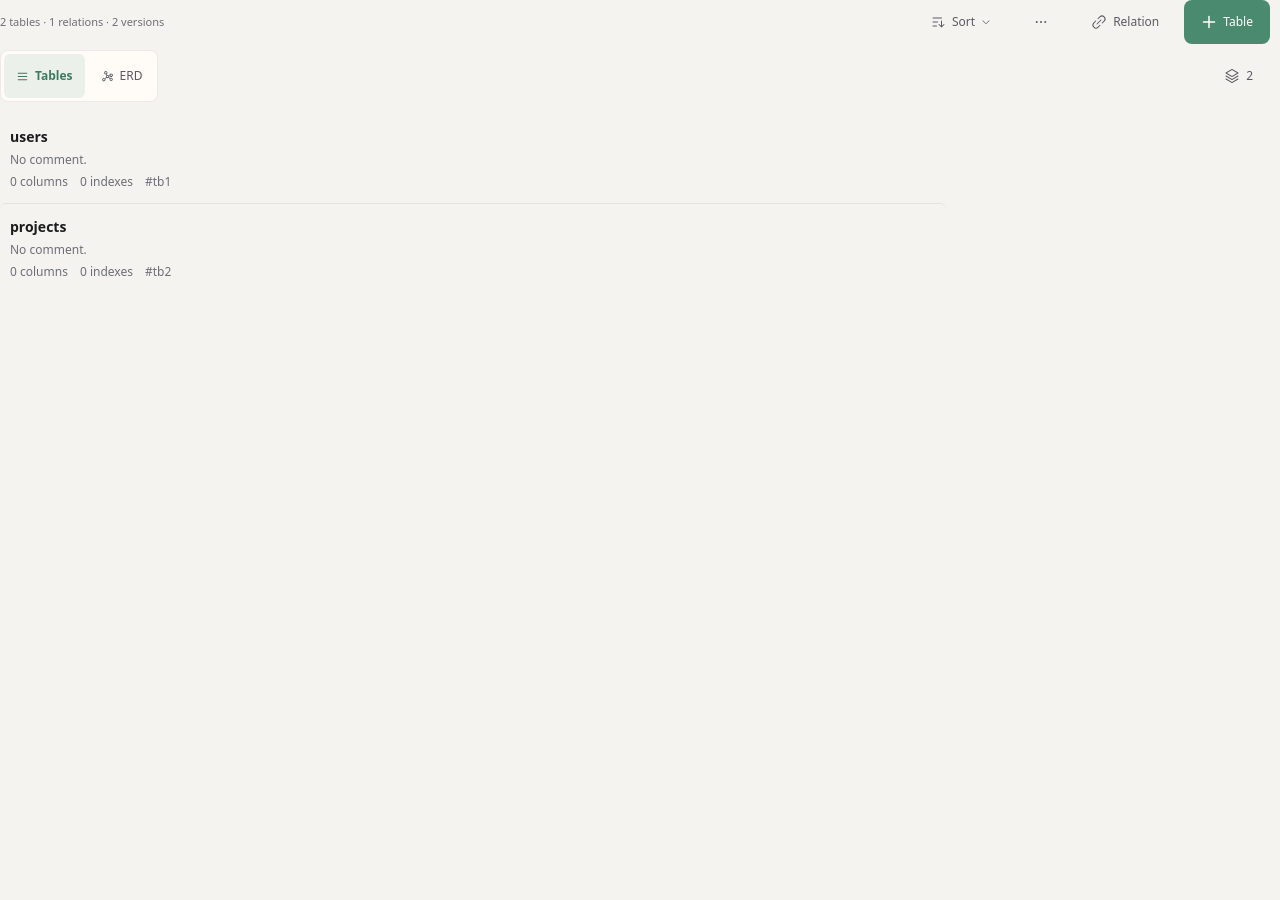
Scenario: SchemaPage mobile header › opens the overflow sheet with export items and import
Click the button named "More actions" at (1041, 22), box [1016, 0, 1066, 44]
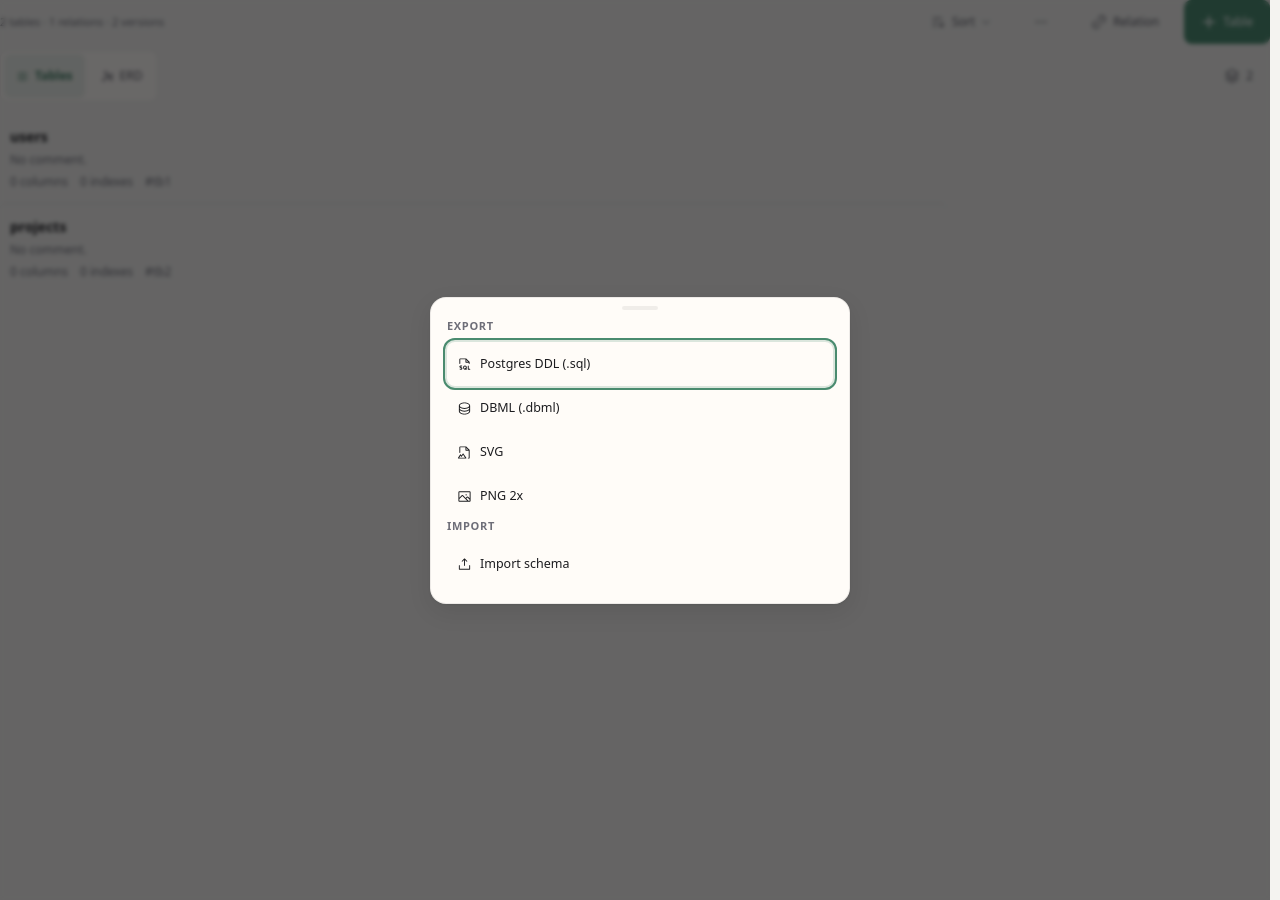
Expected: the dialog is shown, [430, 296, 850, 604]
Expected: the button "Postgres DDL (.sql)" is shown, [447, 342, 833, 386]
Expected: the button "Import schema" is shown, [447, 542, 833, 586]
